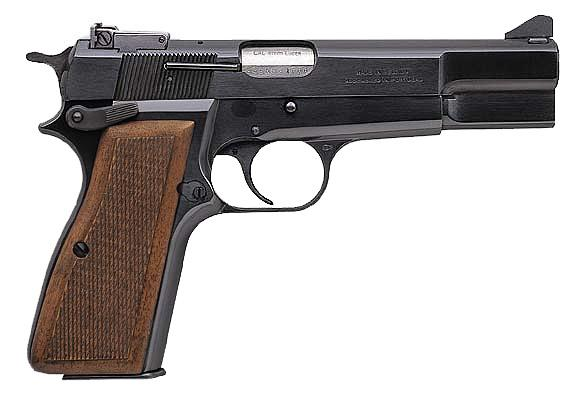gun: (14, 10, 559, 397)
